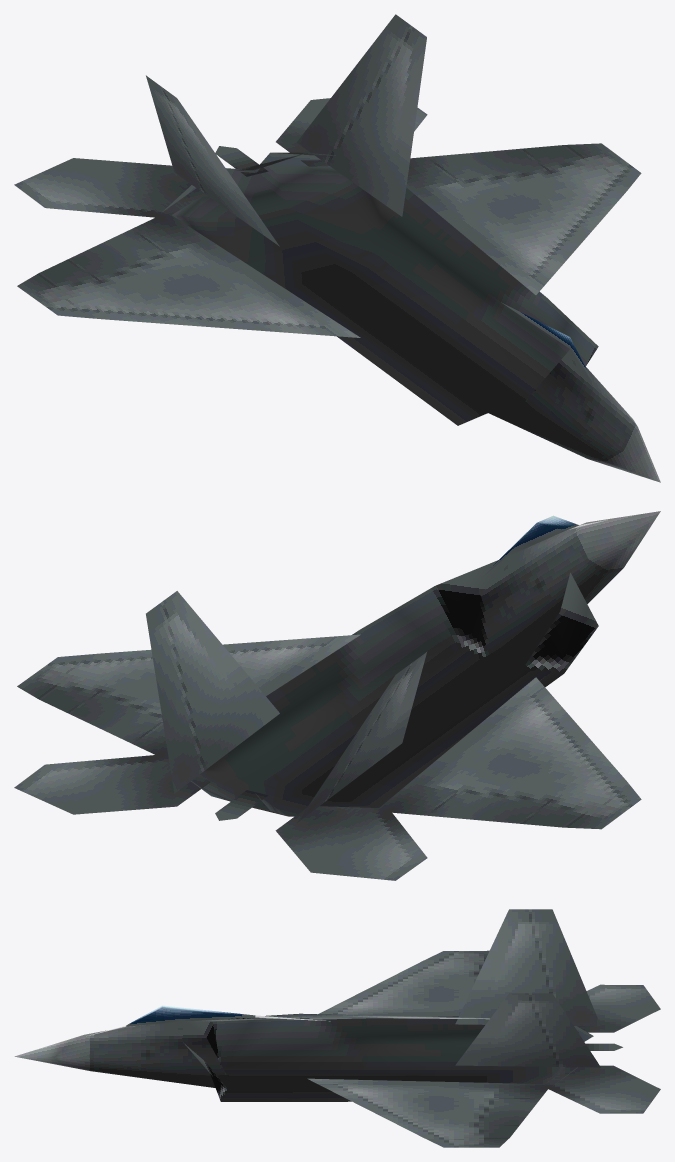
Rendered from ps2_save-icons_gendaidaisenryakuisshokusokuhatsugunjibalancehoukai.glb.
3 renders of one model, top to bottom at view 1: azimuth 30°, elevation 25°; view 2: azimuth 150°, elevation 25°; view 3: azimuth 270°, elevation 25°, orthographic. The views are drawn at different scales.
Visible parts, largest first — view 1: ICON.ICO; view 2: ICON.ICO; view 3: ICON.ICO.
Boxes of the visible parts, x1,y1,x2,y2 form: ICON.ICO: (14,14,660,482); ICON.ICO: (14,511,660,880); ICON.ICO: (14,909,660,1147).
Bounding box in the file's own units: 2.75 × 0.8645 × 3.82.
Materials: 1 (1 with a texture image).
